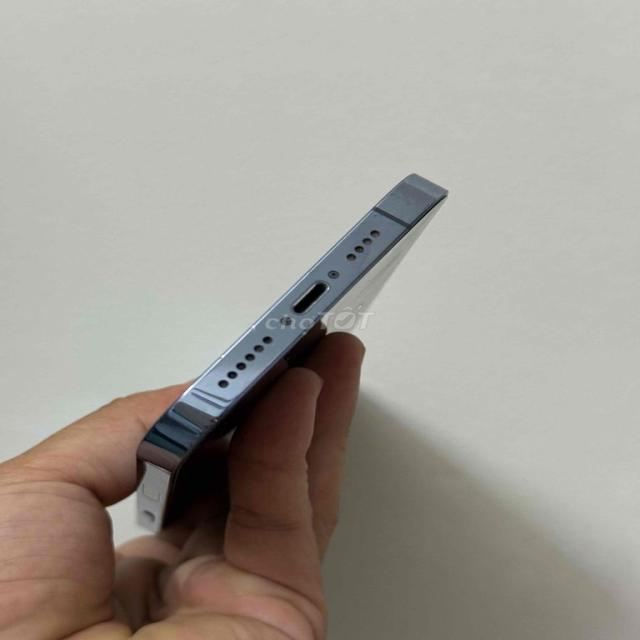gen_12_13: (115, 160, 484, 540)
